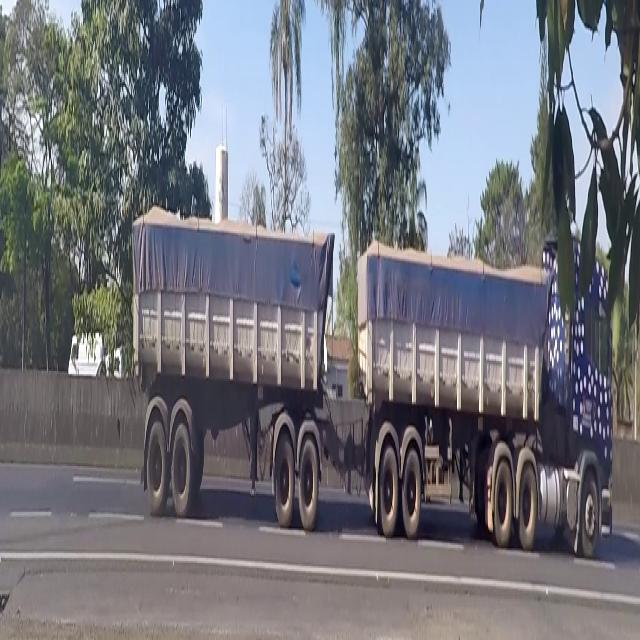-axle: (490, 443, 516, 556), (578, 454, 602, 570), (401, 443, 426, 544), (143, 412, 167, 516), (374, 443, 400, 539), (517, 448, 539, 560), (272, 429, 296, 530), (169, 415, 192, 518), (298, 429, 318, 542)
